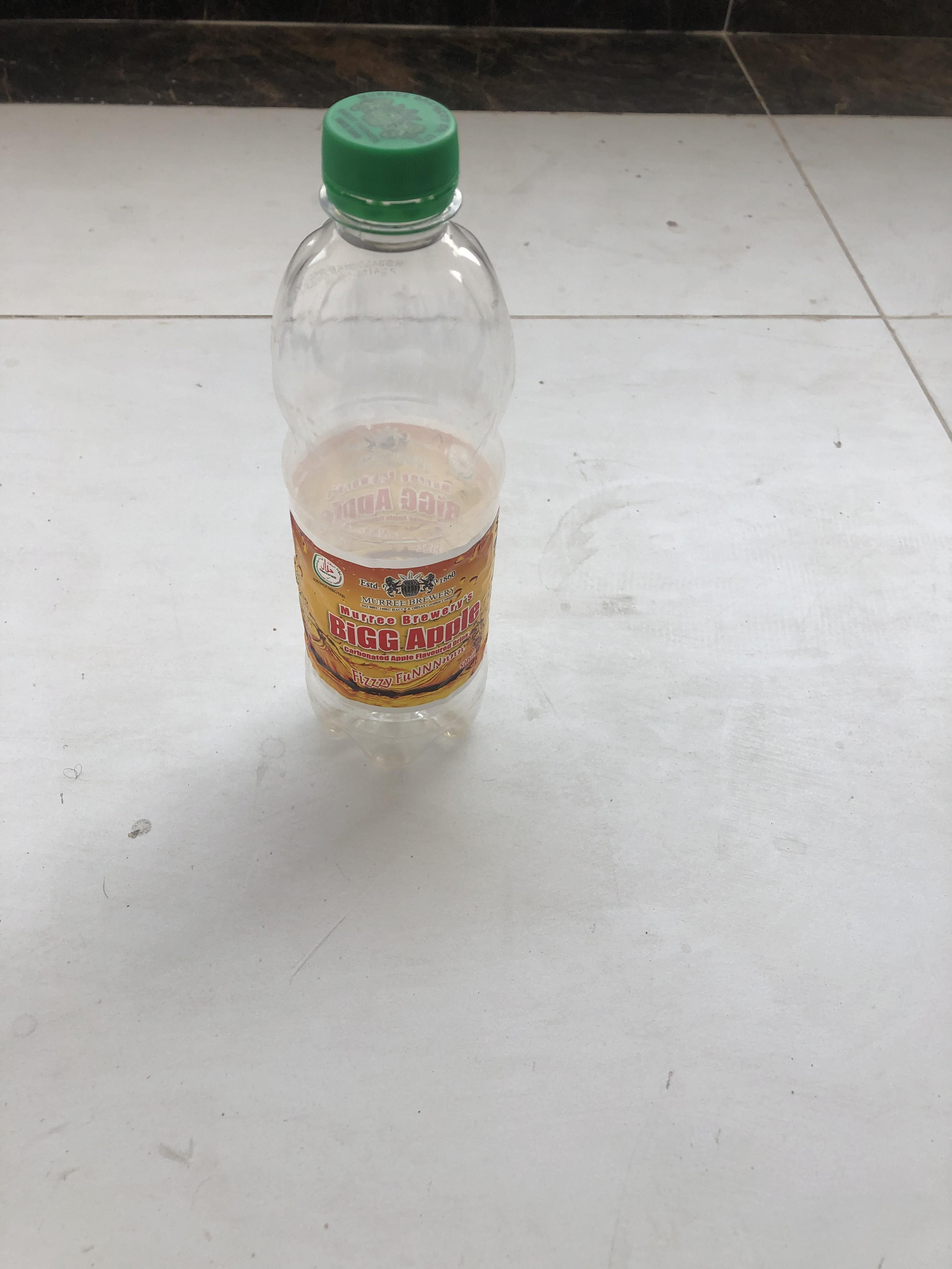bottle-plastic: (264, 87, 524, 760)
